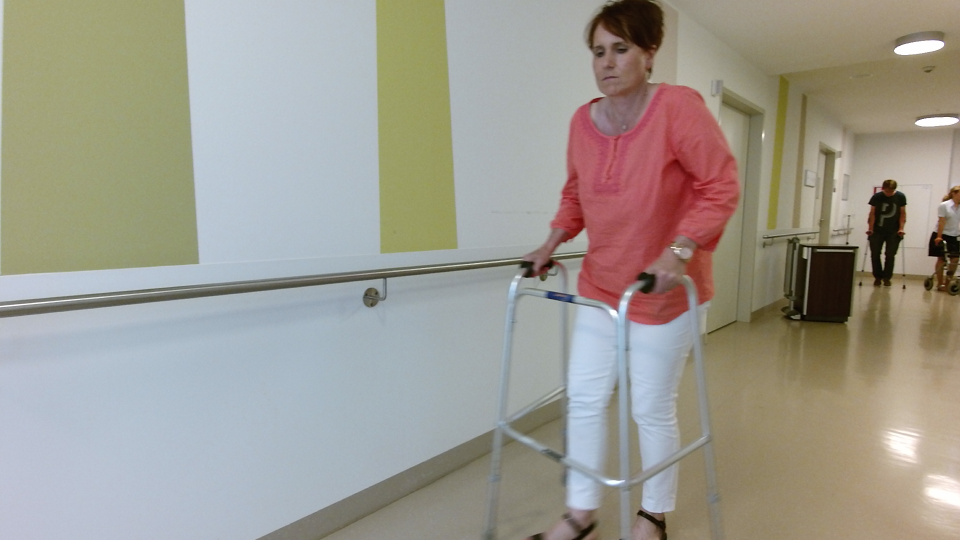crutches: (852, 174, 916, 293)
